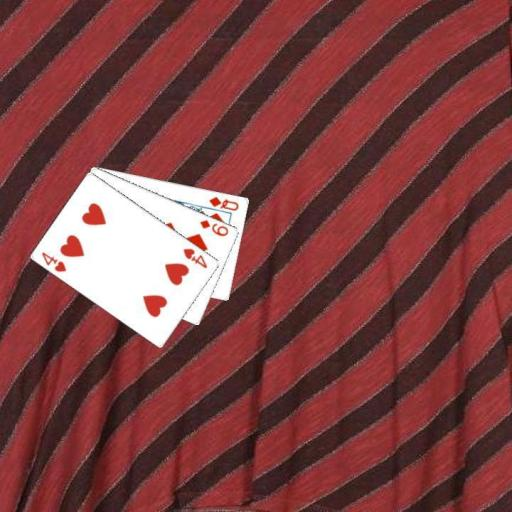card-corner: (180, 244, 209, 270), (38, 249, 68, 274), (197, 216, 230, 238), (206, 193, 240, 212)
